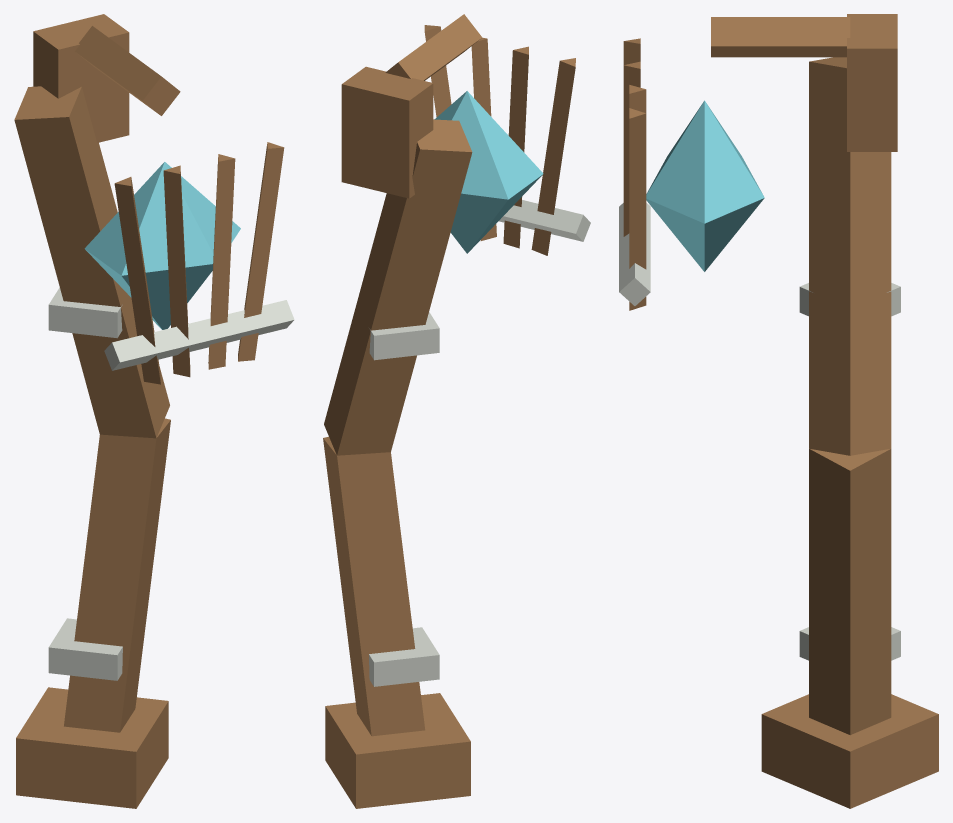
The model's file is Marsh_LampPost.fbx.
3 renders of one model, left to right at view 1: azimuth 30°, elevation 25°; view 2: azimuth 150°, elevation 25°; view 3: azimuth 270°, elevation 25°, orthographic. The views are drawn at different scales.
Visible parts, largest first — view 1: Marsh_LampPost; view 2: Marsh_LampPost; view 3: Marsh_LampPost.
Part boxes in pixels (box(x1,y1,x2,y2)): Marsh_LampPost: box(14, 14, 294, 808); Marsh_LampPost: box(323, 14, 590, 808); Marsh_LampPost: box(619, 14, 938, 808).
Size of the model in its own units: 32 by 132 by 50.5.
